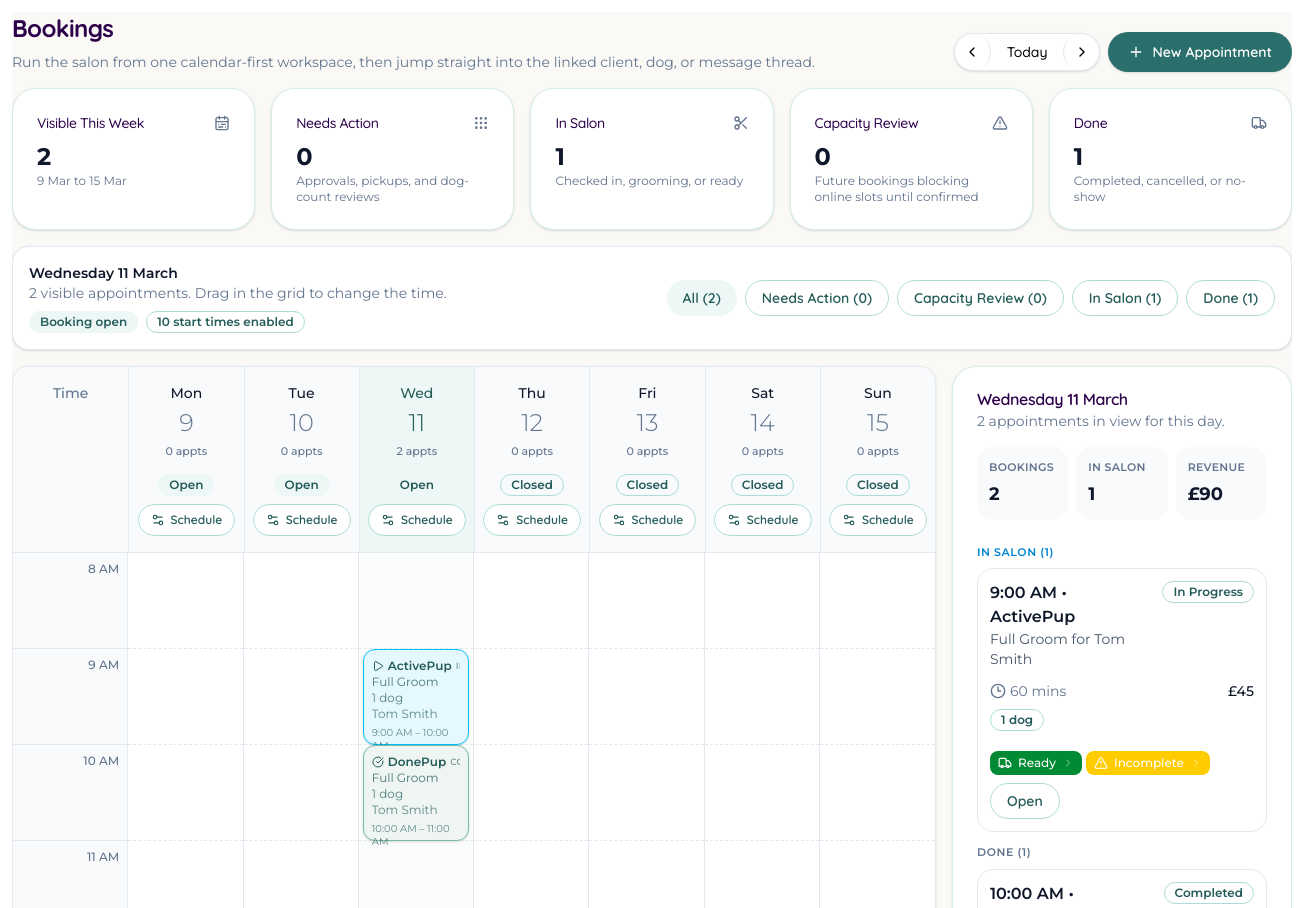
it: Calendar › filters appointments by status when filter buttons are clicked
This screenshot has width=1304, height=908.
Note: Click "Done" filter
Click the button "Done (1)". click: (1231, 298)
box: 1186,280 -> 1275,316
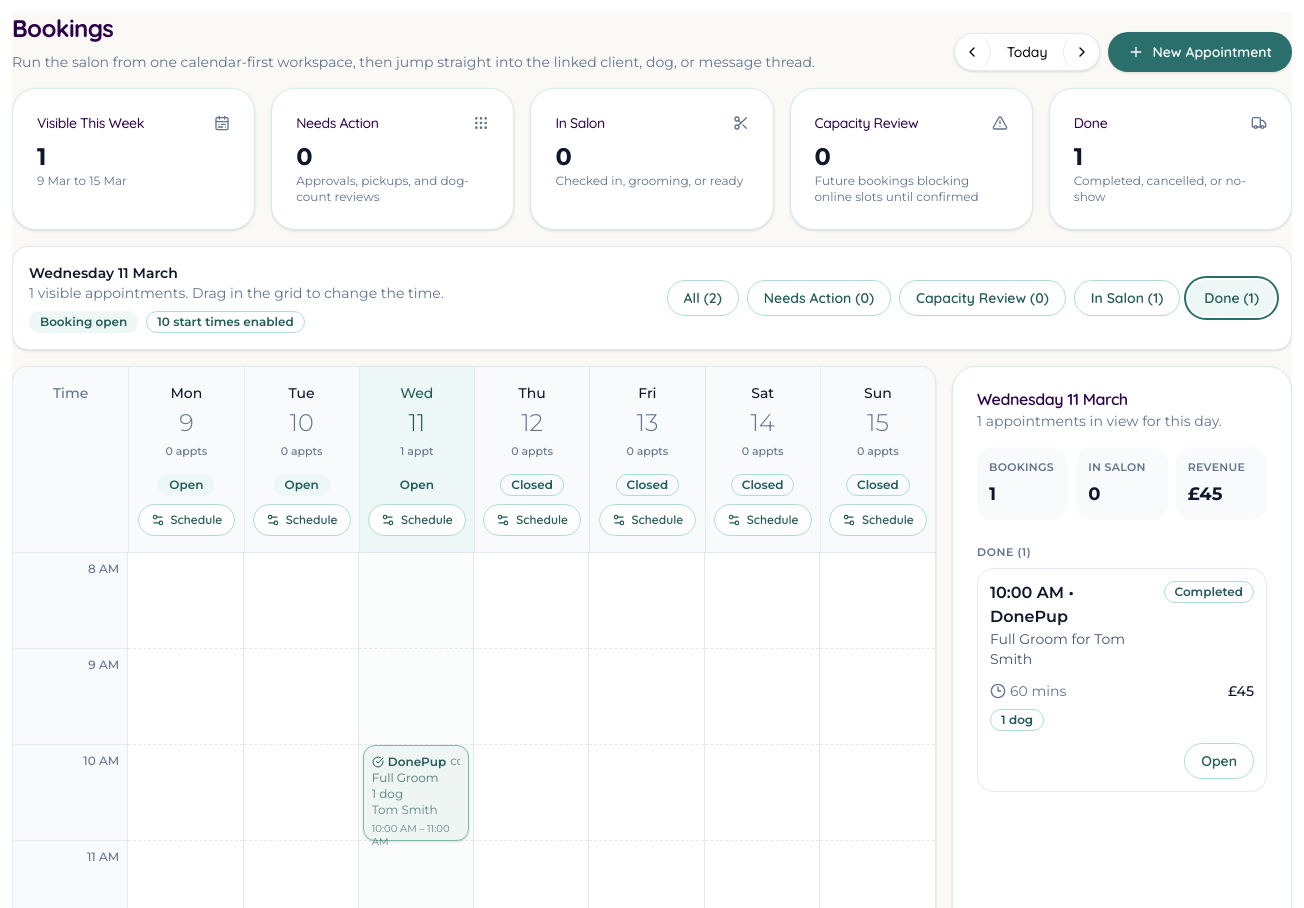
Now the text "ActivePup" is gone
